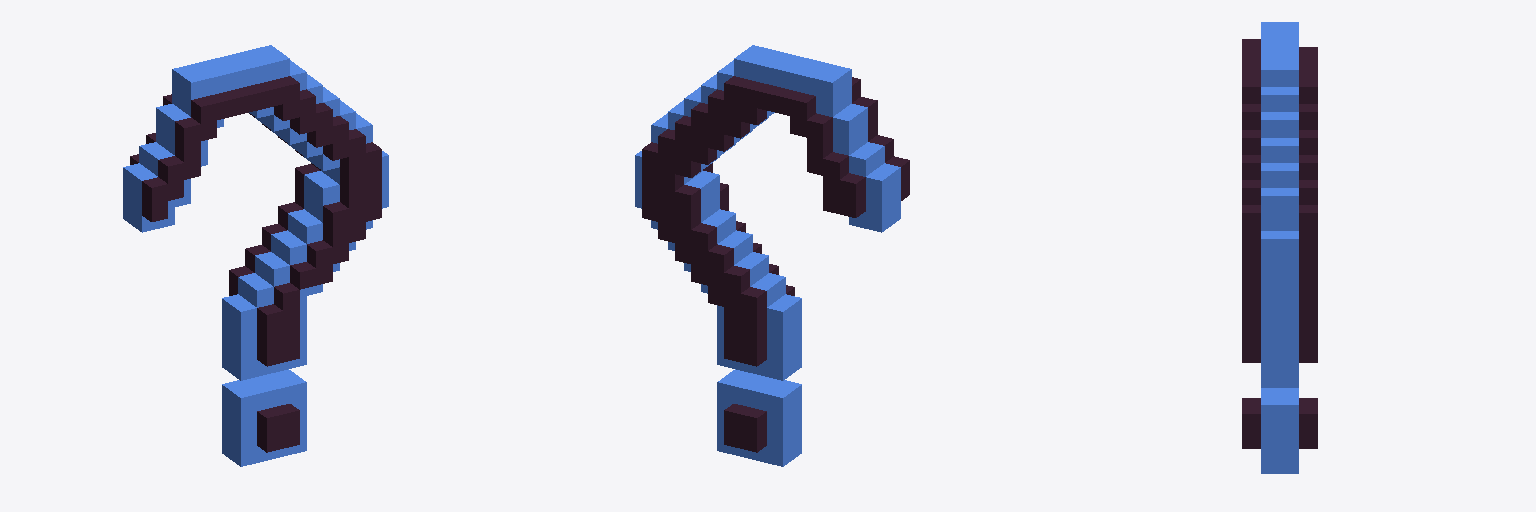
The picture shows the model from 3 angles: view 1: azimuth 30°, elevation 25°; view 2: azimuth 150°, elevation 25°; view 3: azimuth 270°, elevation 25°; orthographic projection.
Visible parts, largest first — view 1: object 1; view 2: object 1; view 3: object 1.
Part boxes in pixels (left/top/right/bottom): object 1: left=123, top=45, right=388, bottom=466; object 1: left=635, top=45, right=909, bottom=466; object 1: left=1242, top=22, right=1317, bottom=473.
Bounding box in the file's own units: 1.5 × 2.3 × 0.4.
1 materials, 1 textured.